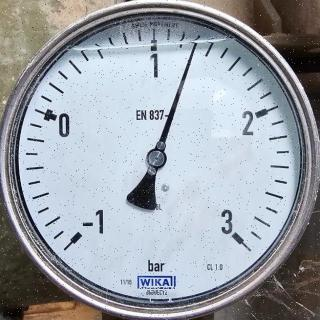gauge: (0, 0, 320, 320), (59, 206, 108, 258), (217, 217, 250, 251), (145, 148, 167, 170), (188, 40, 200, 51)
